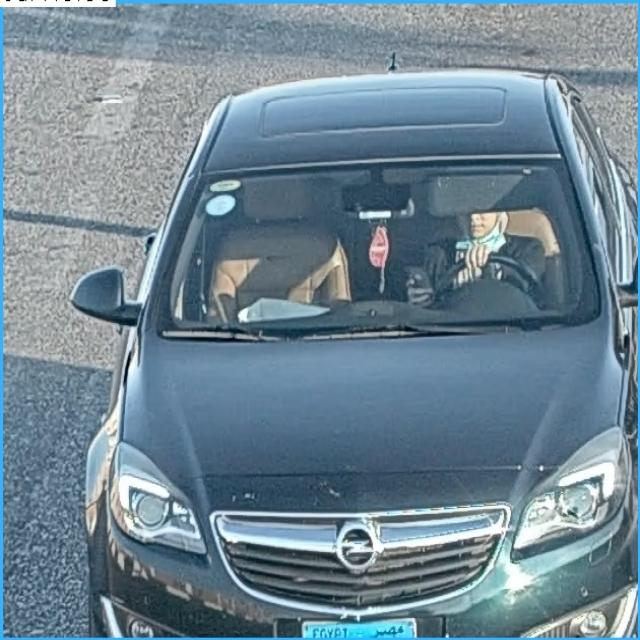windshield: (164, 162, 600, 332)
